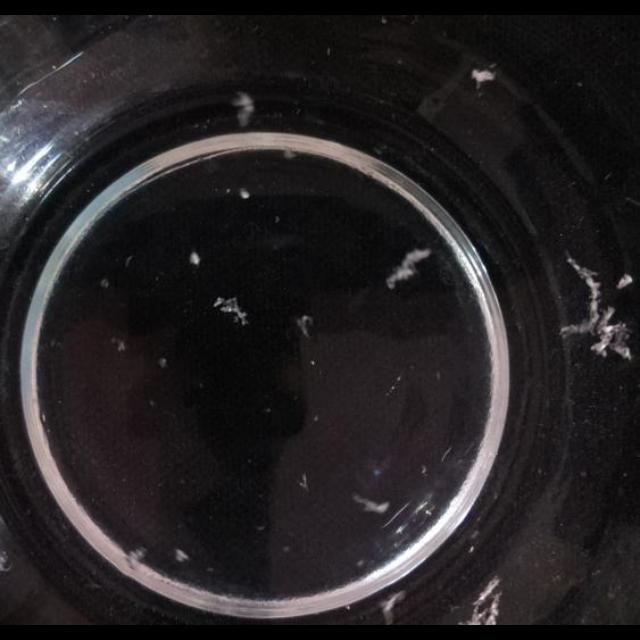Fibre: (564, 248, 636, 362), (384, 248, 432, 288), (591, 318, 633, 362), (460, 581, 502, 625), (214, 296, 250, 326), (234, 92, 256, 128), (352, 494, 391, 514), (126, 546, 148, 570), (296, 315, 314, 339), (112, 337, 126, 353), (297, 473, 309, 491), (282, 150, 296, 160)
microbeads: (379, 590, 406, 624), (382, 373, 402, 399), (231, 181, 255, 201), (470, 68, 496, 86), (616, 273, 634, 289), (174, 548, 190, 562), (188, 252, 200, 266), (158, 358, 168, 368), (100, 279, 110, 289), (419, 465, 427, 475), (424, 508, 434, 516), (356, 560, 364, 568), (313, 414, 319, 422), (274, 215, 280, 223), (310, 359, 316, 366)
